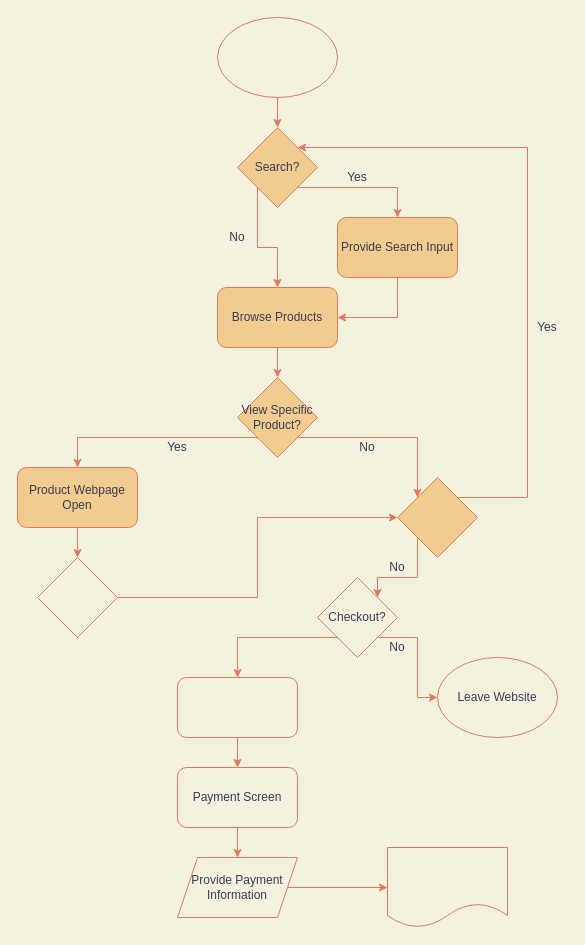
The diagram is 585 pixels wide and 945 high, and some of its shapes have lost their labels. Each missing label, with the box of its shape:
Add to Cart?: (36, 556, 118, 638)
Continue Shopping?: (396, 476, 478, 558)
Payment Confirmation: (386, 846, 508, 928)
User Enters Website: (216, 16, 338, 98)
View Cart Screen: (176, 676, 298, 738)
